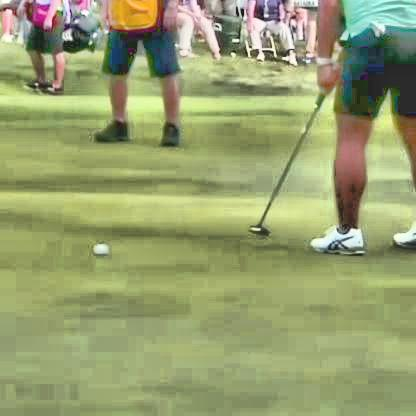golfball: (90, 244, 108, 255)
